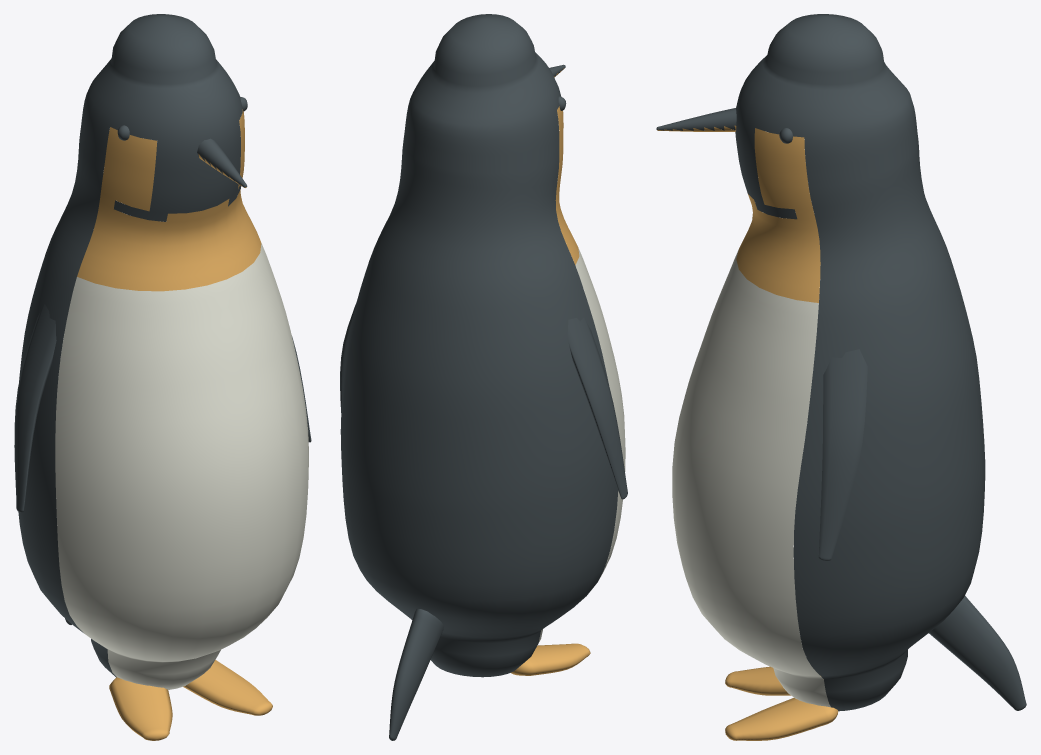
Rendered from ocean-giants-kit-king-penguin-72eebae3__39347.glb.
The picture shows the model from 3 angles, left to right: view 1: azimuth 30°, elevation 25°; view 2: azimuth 150°, elevation 25°; view 3: azimuth 270°, elevation 25°; orthographic projection. The views are drawn at different scales.
Parts seen in each view (by area): view 1: king-penguin; view 2: king-penguin; view 3: king-penguin.
Part boxes in pixels (bbox=[...]): king-penguin: bbox=[14, 14, 311, 740]; king-penguin: bbox=[340, 14, 627, 740]; king-penguin: bbox=[656, 14, 1026, 740].
Size of the model in its own units: 0.4271 by 0.95 by 0.4582.
